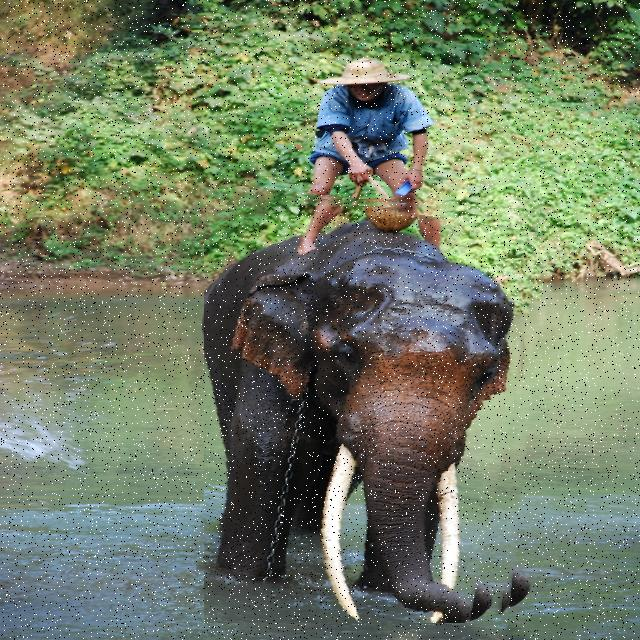elephant: (204, 194, 540, 623)
